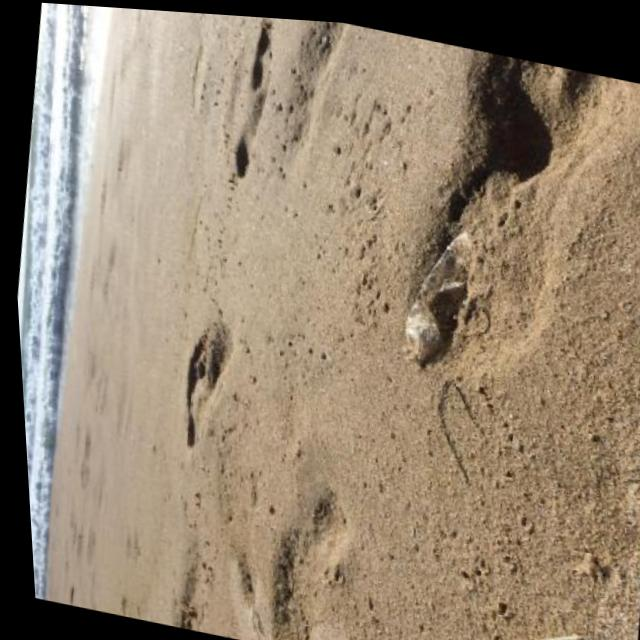other: (397, 221, 479, 372)
